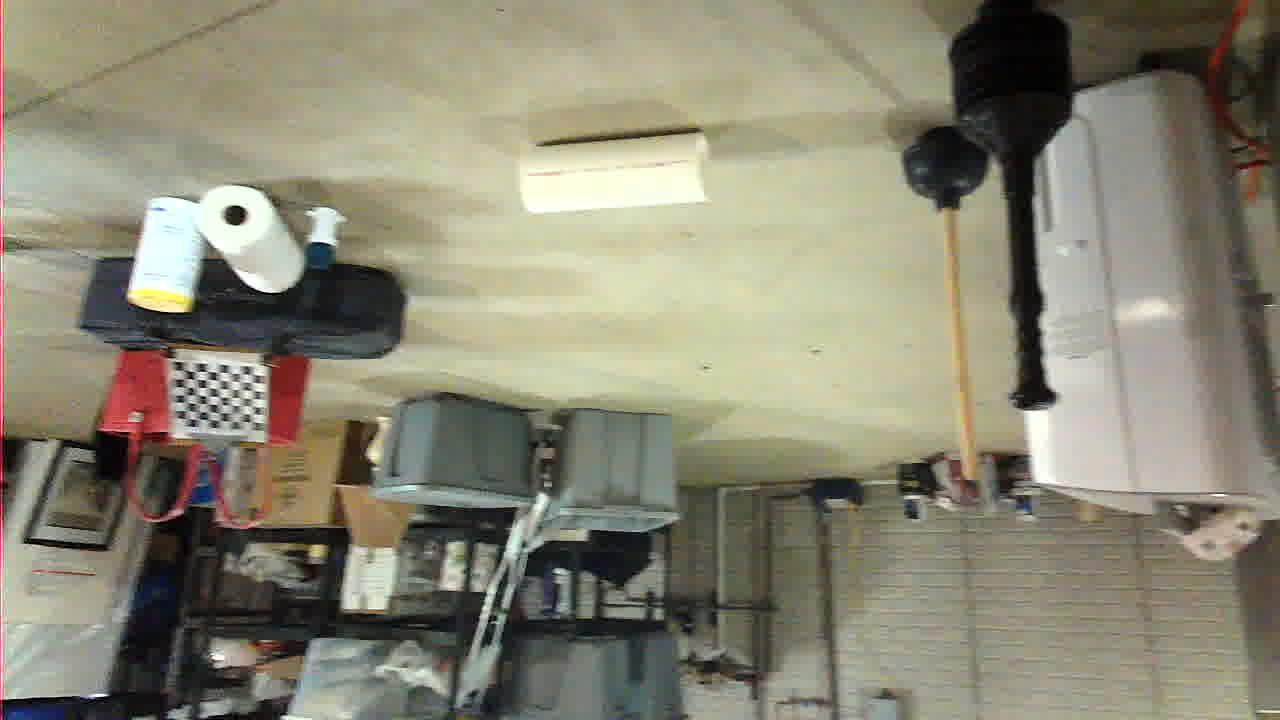coral: (570, 506, 761, 587)
